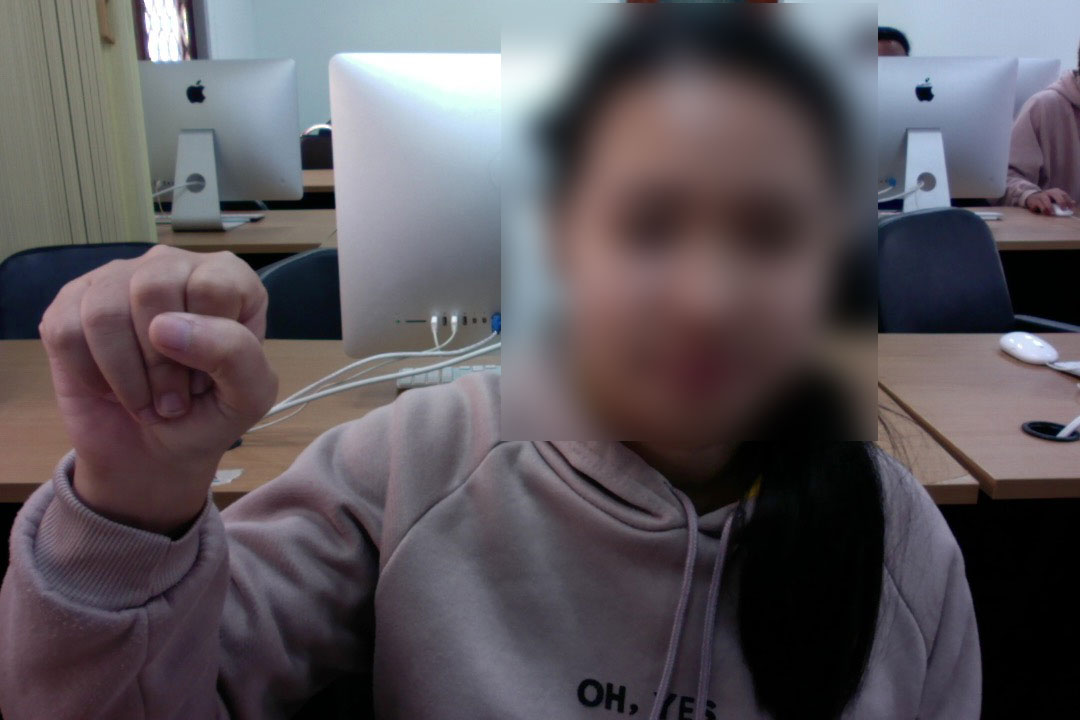sor: (33, 237, 286, 505)
